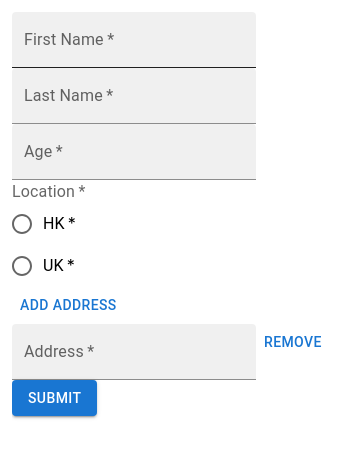
Test: CustomerForm › validates textfield values
The width and height of the screenshot is (338, 459).
In the number field labelled "Age *": (134, 152) [12, 124, 256, 180], type "16"
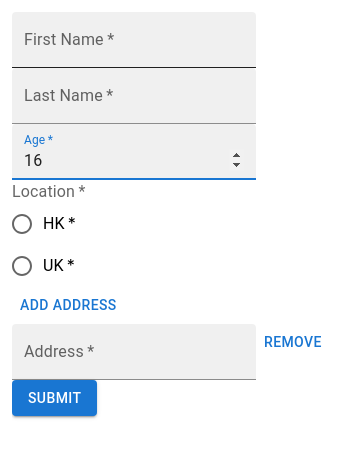
Press Tab
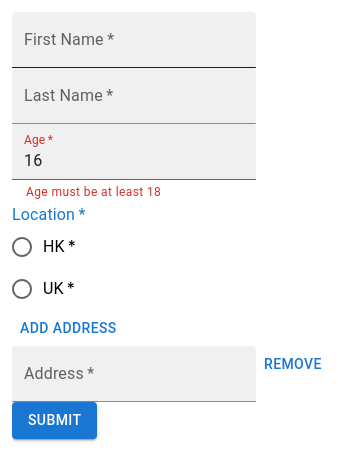
expect the text "Age must be at least 18" is shown: met, box [26, 185, 161, 199]
